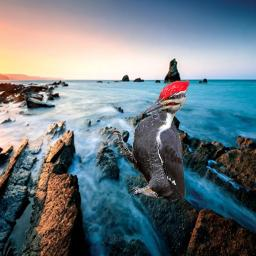Woodpecker: (110, 80, 189, 202)
